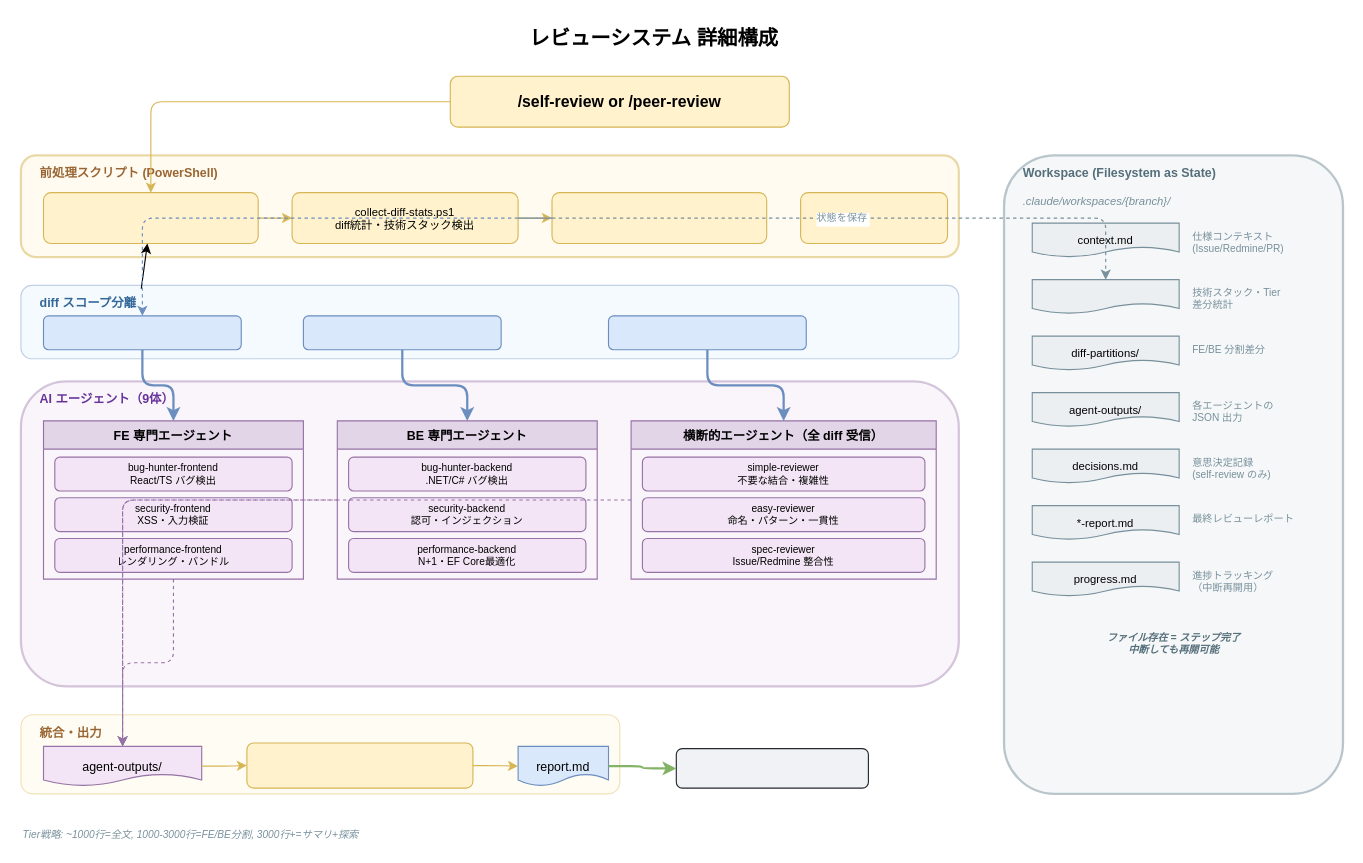
Some shapes in this 1363 by 863 pixel diagram are drawn without their labels. Each missing label, with the centre of its shape:
"BE diff (*.cs, *.csproj)" goes at (401,332).
"diff-stats.md" goes at (1105,296).
"FE diff (*.ts, *.tsx, *.css)" goes at (141,332).
"Full diff (全ファイル)" goes at (706,332).
"GitHub PR Review" goes at (771,767).
"partition-diff.ps1 FE/BE diff 分割" goes at (659,218).
"post-review.ps1 GitHub API 投稿" goes at (873,218).
"workspace-init.ps1 ワークスペース初期化" goes at (150,218).
"統合・検証 （重複排除・信頼度フィルタ）" goes at (359,765).
